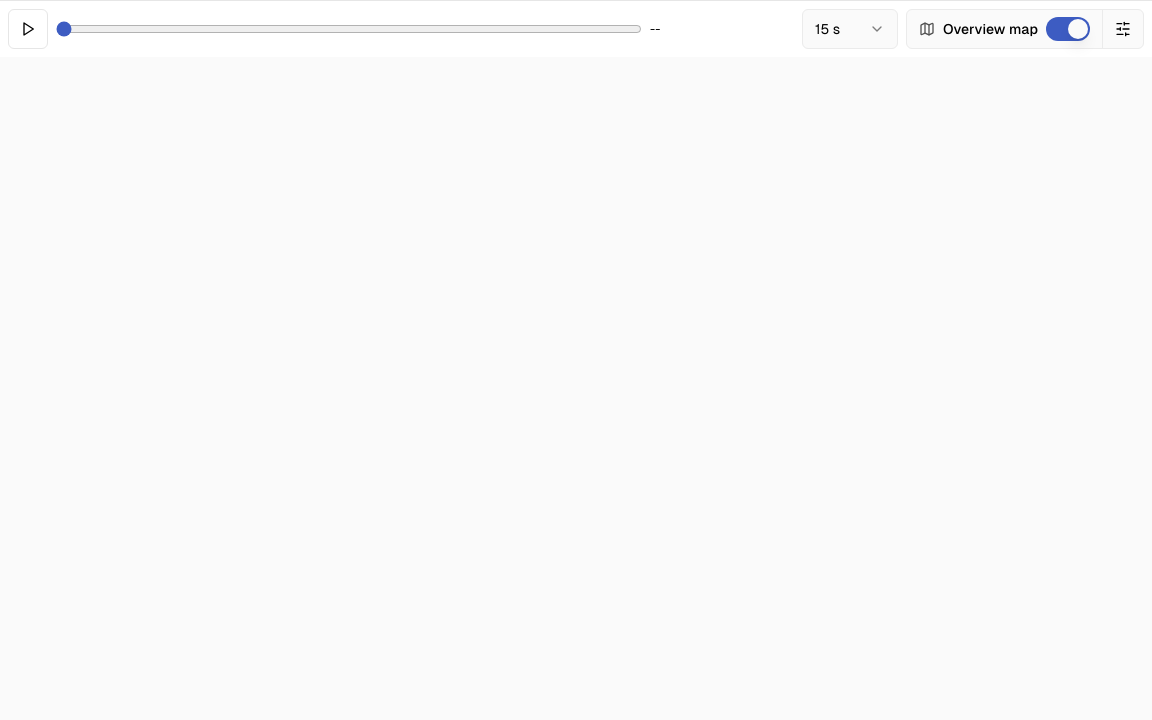
the overview map placement controls › stop at the wide end too
The image size is (1152, 720).
Click the button named "Place overview map". click: (1123, 29)
box: [1103,9,1143,49]
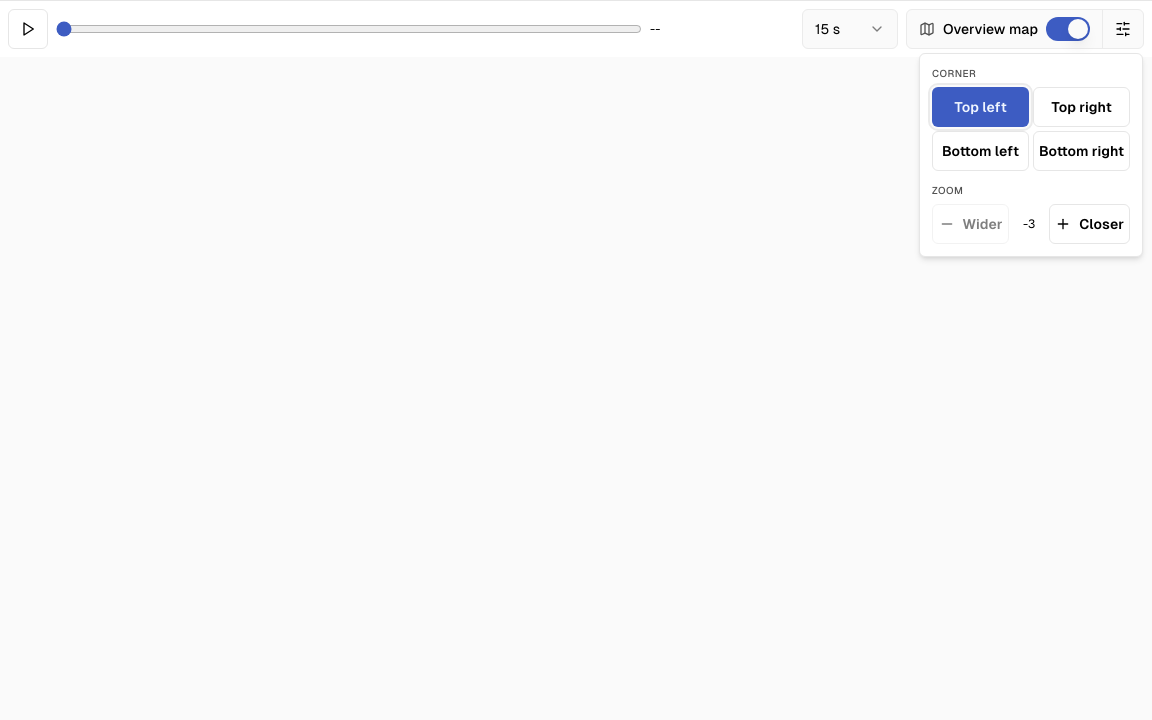
expect the text with test id "inset-zoom-step" reads "-3": met, box [1023,217,1035,231]
expect the button "Wider" is disabled: met, box [932,204,1009,244]
